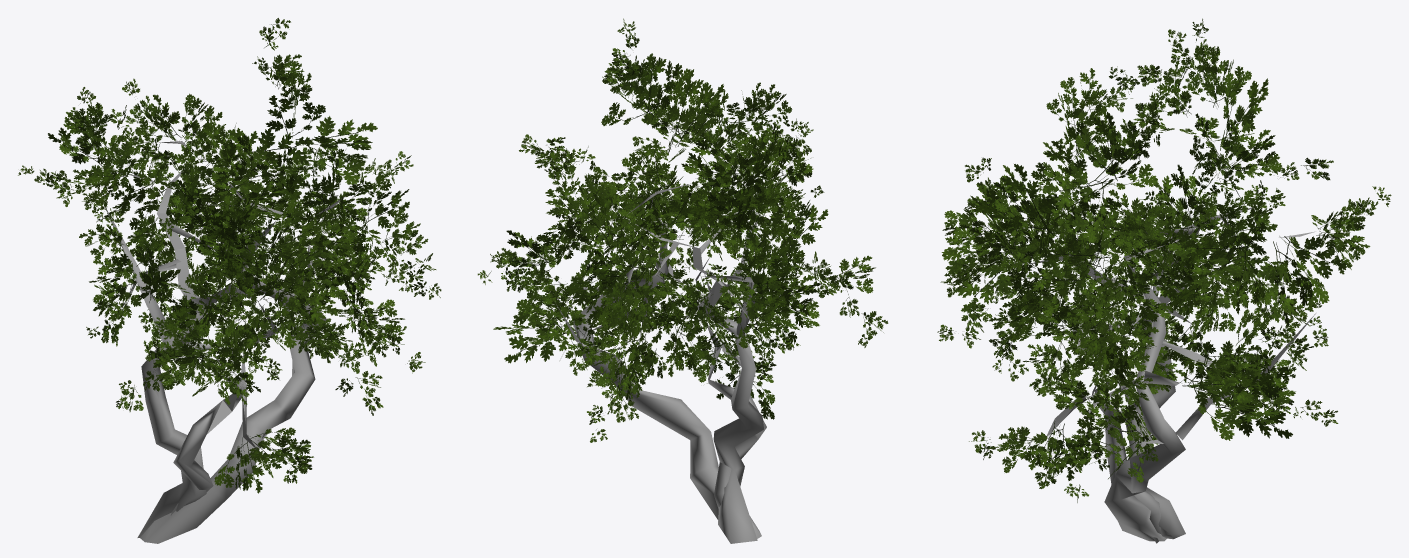
The model's file is oak3 lod1.FBX.
The picture shows the model from 3 angles, left to right: view 1: azimuth 30°, elevation 25°; view 2: azimuth 150°, elevation 25°; view 3: azimuth 270°, elevation 25°; orthographic projection. The views are drawn at different scales.
Parts seen in each view (by area): view 1: oak_3_LOD1; view 2: oak_3_LOD1; view 3: oak_3_LOD1.
Boxes of the visible parts, left/top/right/bottom form: oak_3_LOD1: left=18, top=18, right=441, bottom=543; oak_3_LOD1: left=477, top=18, right=888, bottom=543; oak_3_LOD1: left=937, top=18, right=1391, bottom=543.
Bounding box in the file's own units: 98535 × 134385 × 107294.
